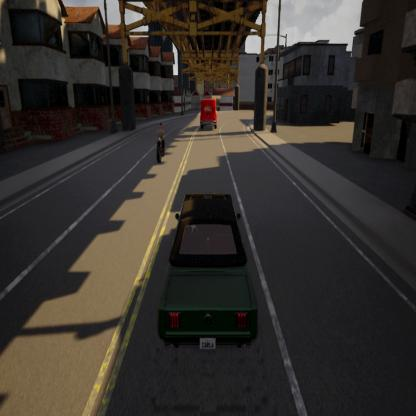Cars: (161, 197, 256, 350), (199, 95, 218, 130), (155, 121, 169, 162)
